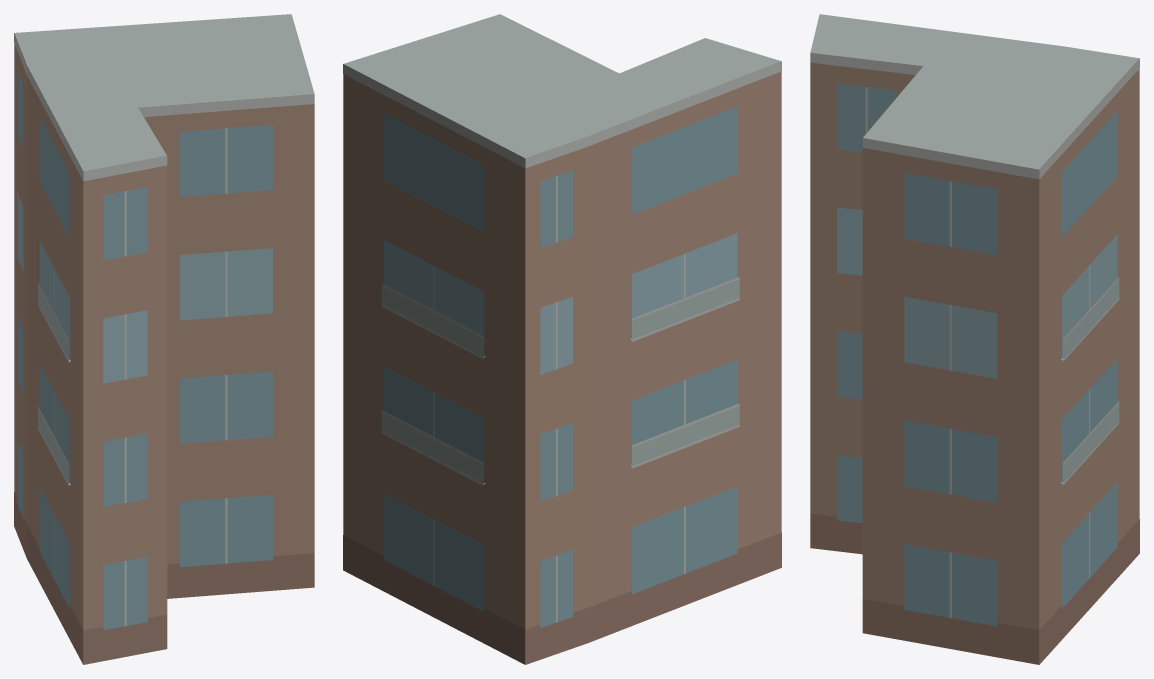
The model's file is survey-upis-32469884.glb.
3 views of the same model, side by side, from view 1: azimuth 30°, elevation 25°; view 2: azimuth 150°, elevation 25°; view 3: azimuth 270°, elevation 25° (orthographic). The views are drawn at different scales.
Visible parts, largest first — view 1: survey-upis-32469884.tmp; view 2: survey-upis-32469884.tmp; view 3: survey-upis-32469884.tmp.
Boxes of the visible parts, box(x1,y1,x2,y2) form: survey-upis-32469884.tmp: box(14, 14, 314, 664); survey-upis-32469884.tmp: box(343, 14, 781, 664); survey-upis-32469884.tmp: box(810, 14, 1139, 664).
Bounding box in the file's own units: 8.3 × 12.3 × 7.43.
